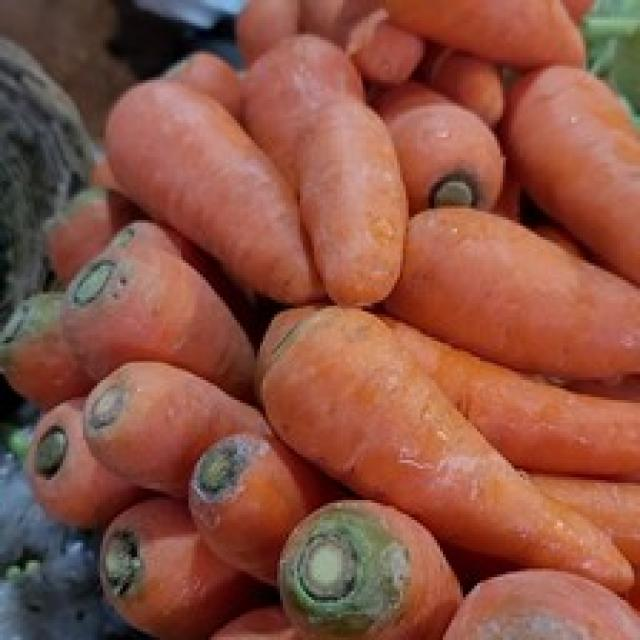Fresh_Carrot: (260, 311, 640, 563), (244, 42, 432, 297), (104, 74, 299, 276), (403, 204, 640, 356), (503, 60, 640, 237)
